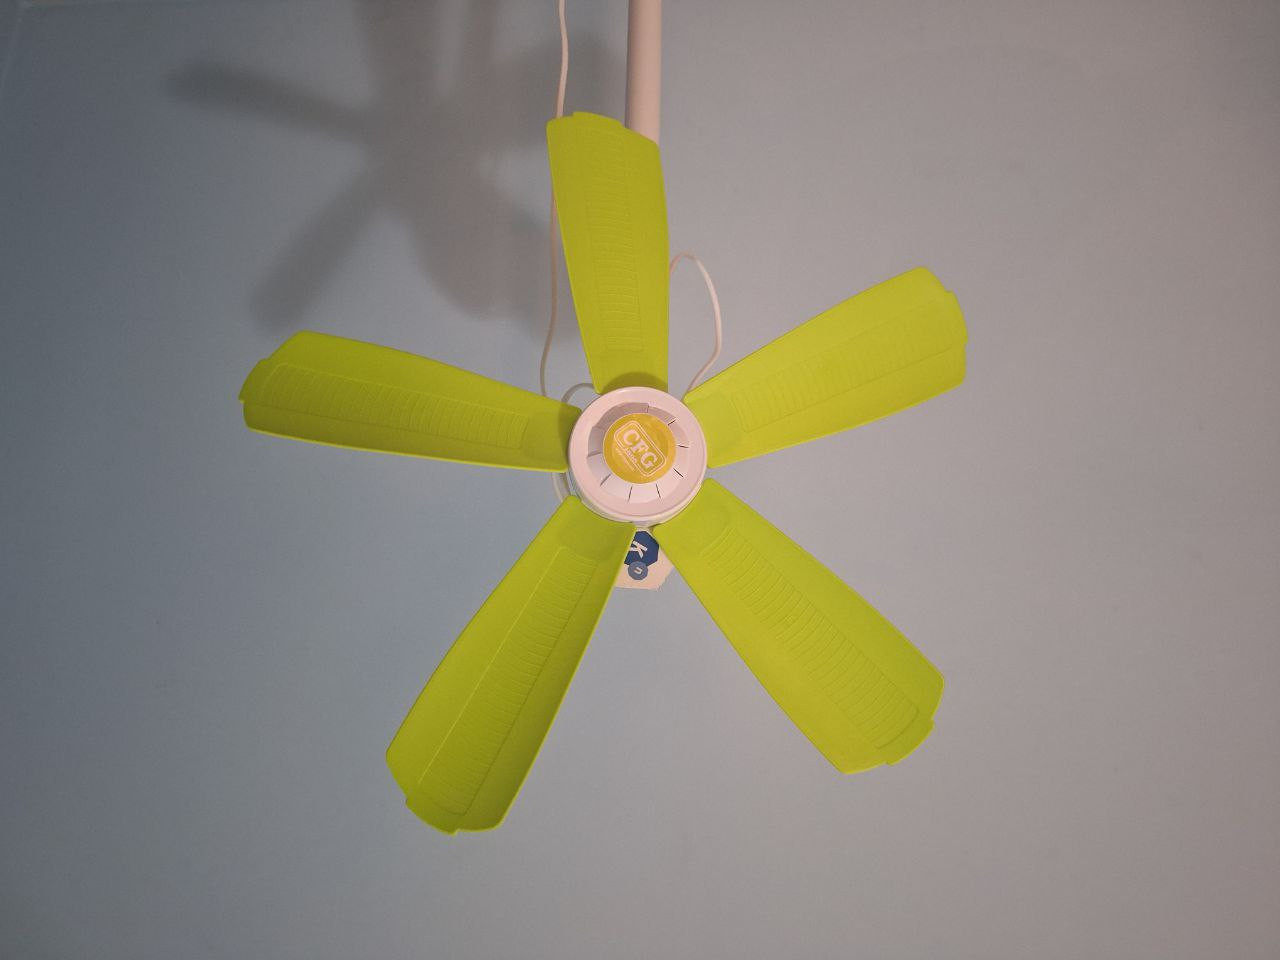knative: (624, 532, 659, 577)
